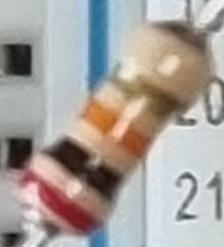Black: (40, 134, 130, 209)
Orange: (74, 94, 156, 161)
Red: (15, 163, 107, 233)
Side-Gold: (105, 50, 188, 125)
